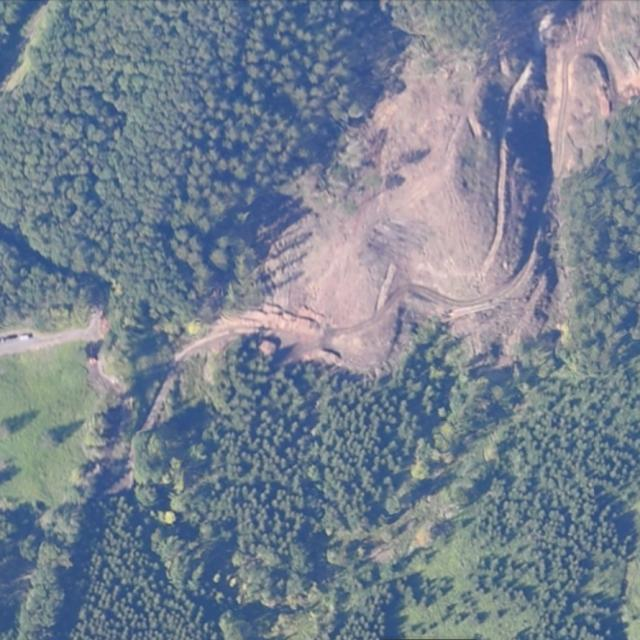landslide: (175, 3, 558, 372), (541, 1, 640, 189)
